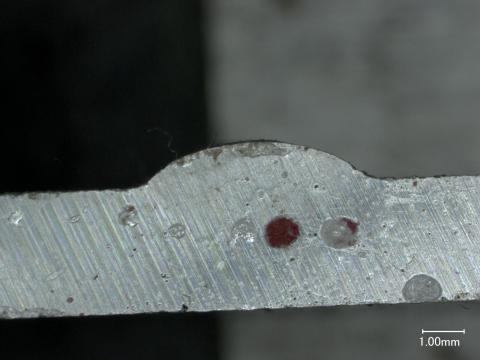test: (145, 141, 373, 184)
